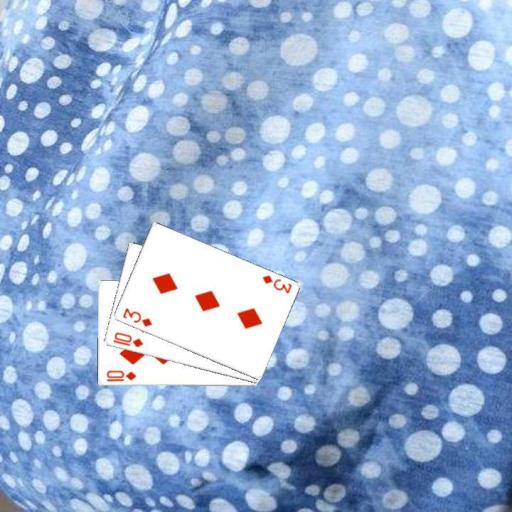10D: (110, 329, 145, 349), (103, 368, 137, 383)
3D: (120, 305, 154, 329), (259, 272, 293, 295)
